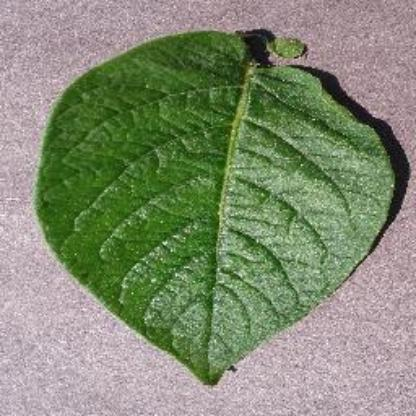Healthy-plant: (31, 19, 400, 389)
